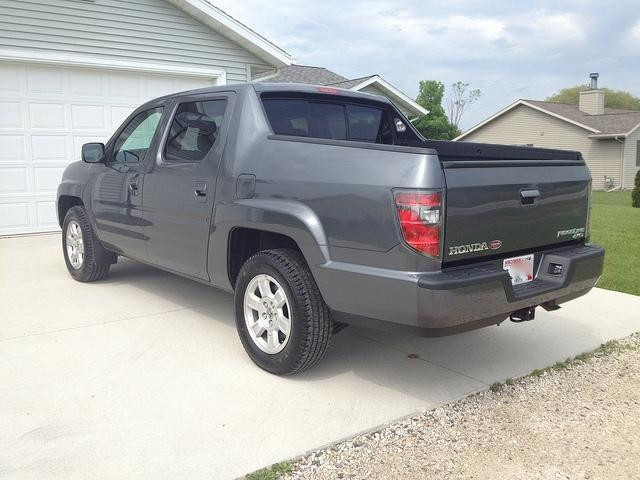truck: (54, 83, 611, 380)
